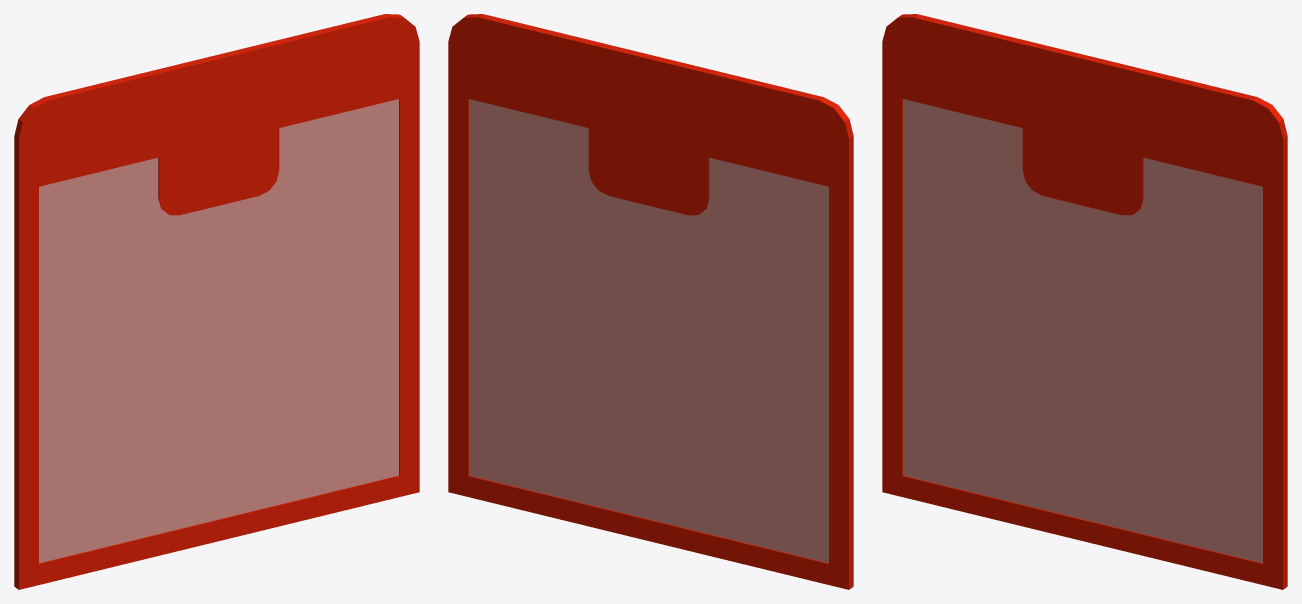
File: Gate.fbx
3 views of the same model, side by side, from view 1: azimuth 30°, elevation 25°; view 2: azimuth 150°, elevation 25°; view 3: azimuth 330°, elevation 25° (orthographic).
Parts seen in each view (by area): view 1: Portal; view 2: Portal; view 3: Portal.
Boxes of the visible parts, bbox=[...] form: Portal: bbox=[14, 14, 419, 589]; Portal: bbox=[448, 14, 853, 589]; Portal: bbox=[882, 14, 1287, 589].
Size of the model in its own units: 200 by 230 by 4.
